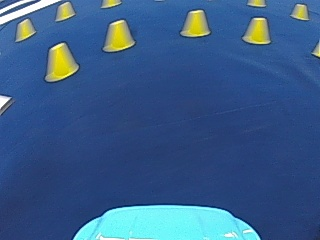cone: (45, 40, 78, 81), (102, 19, 135, 52), (180, 9, 210, 37), (242, 16, 271, 44), (15, 18, 34, 41), (55, 1, 74, 21), (291, 3, 308, 20)
